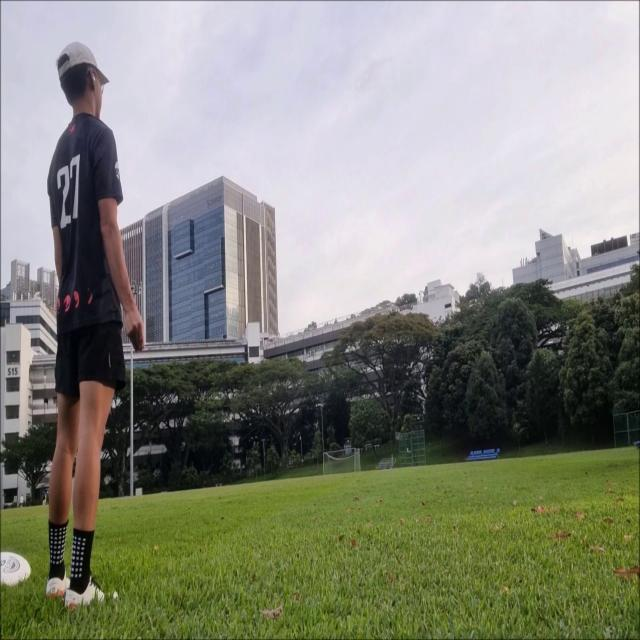disc: (548, 340, 554, 344)
